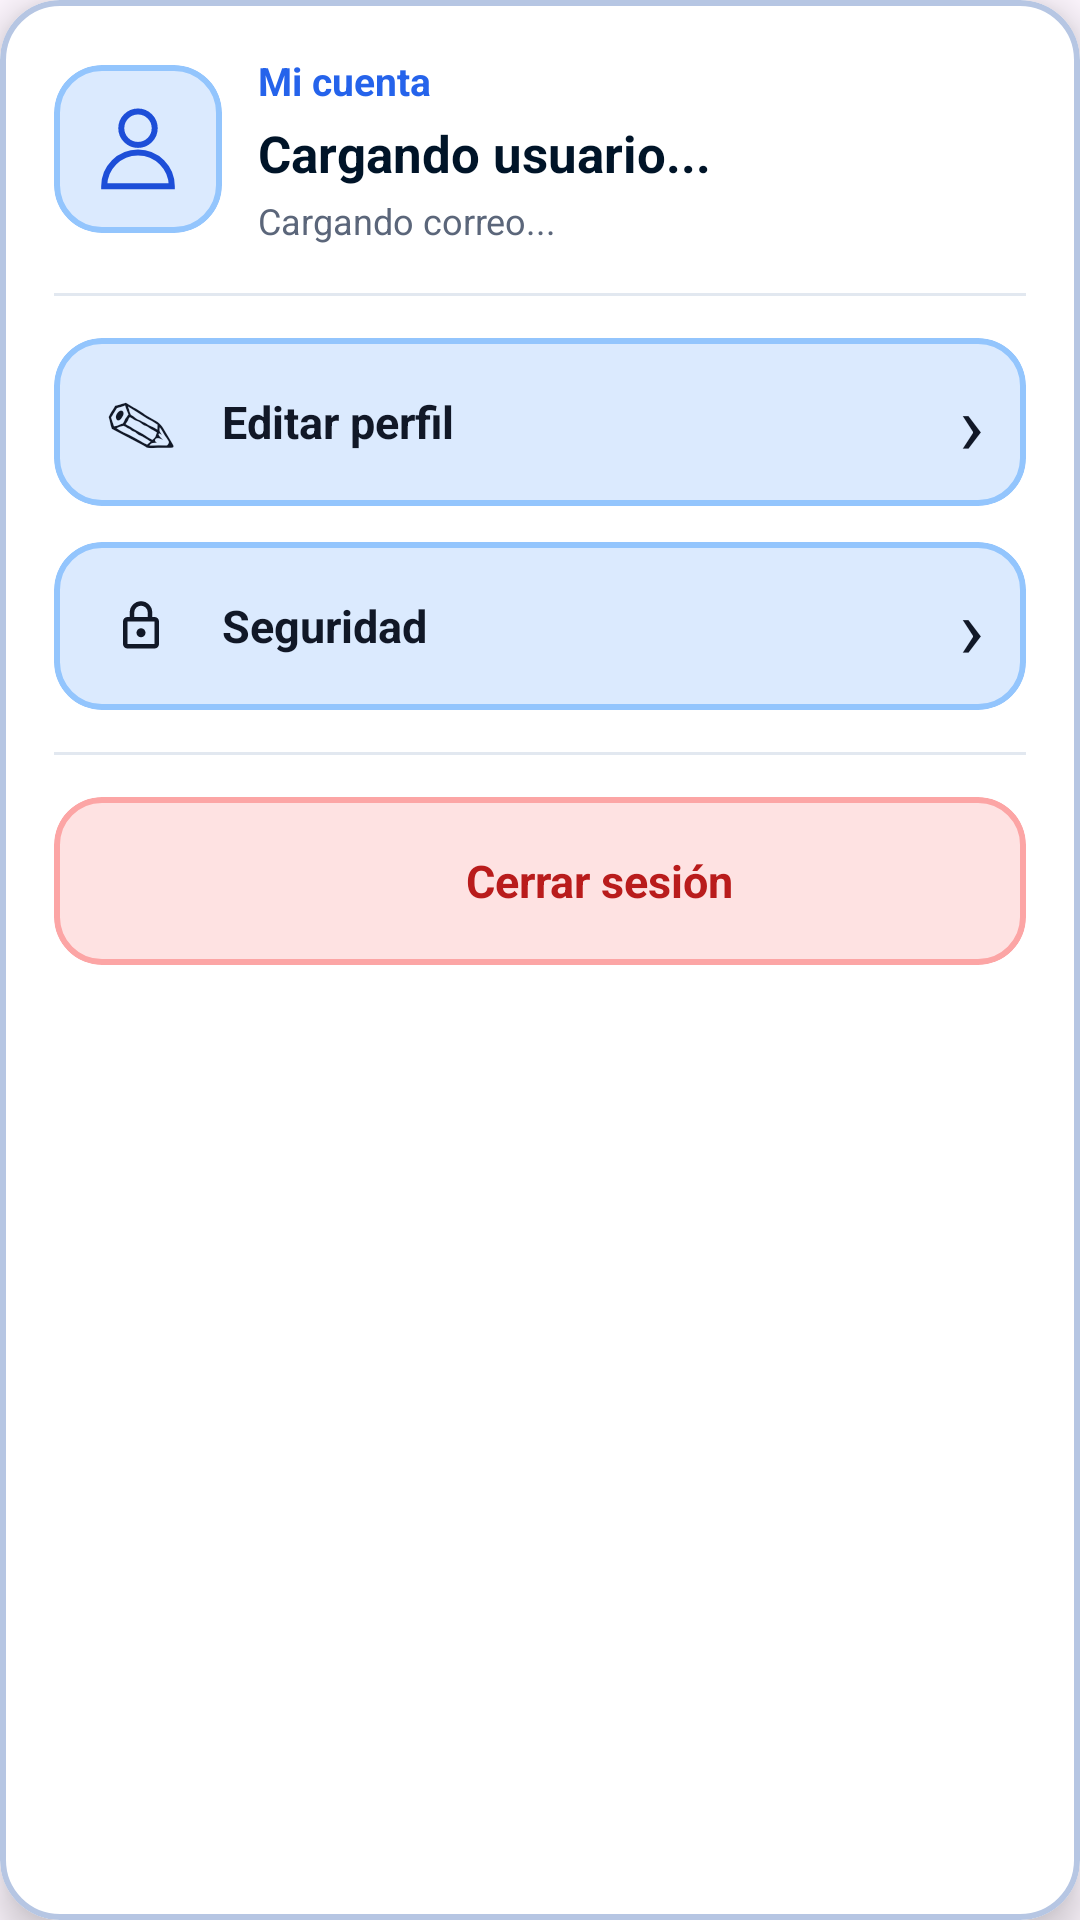

Icon click points for this 1080 × 1920 phone screenshot, format [x,y]:
lock: [141,625]
person: [138,149]
